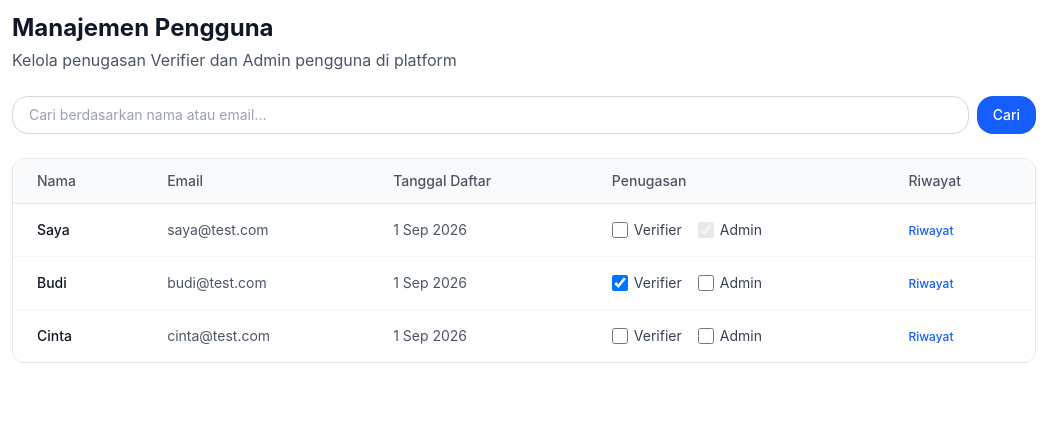
Test: AdminUsersPage › shows an empty state when the user has no audit entries
Click the button "Riwayat" in the row of "budi@test.com": (931, 284) [908, 276, 954, 292]
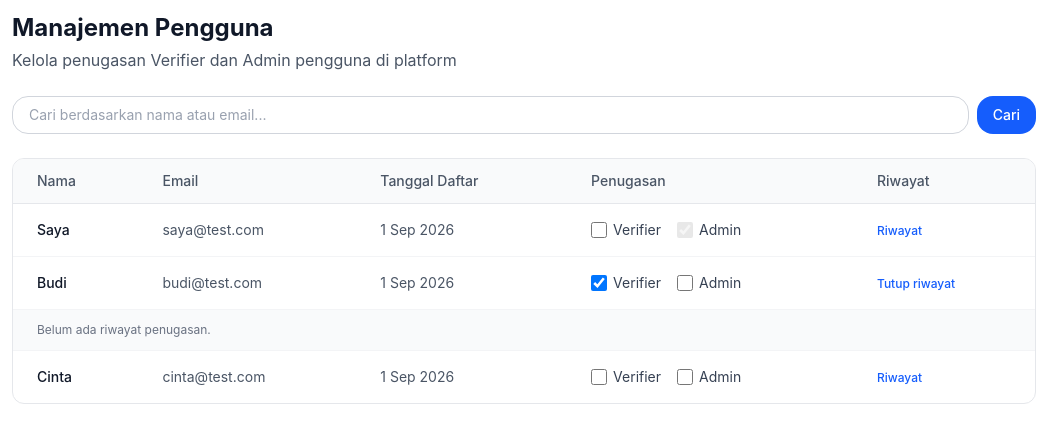
expect the text "Belum ada riwayat penugasan." is shown: met, box [37, 322, 211, 337]
